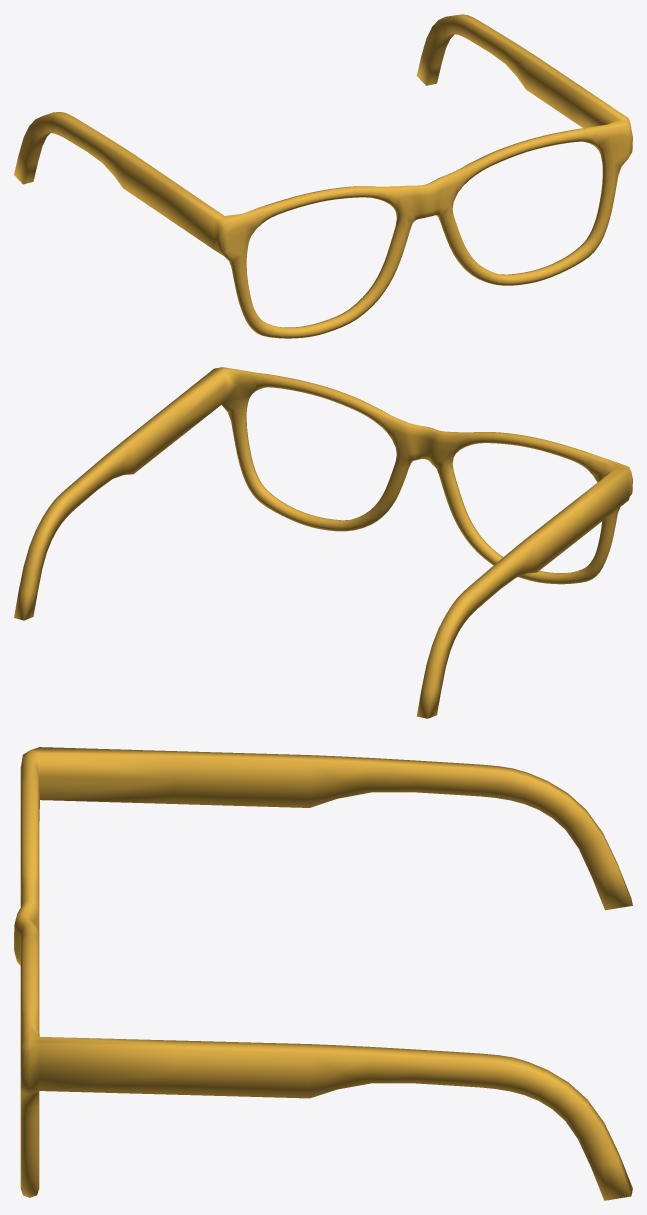
File: yellow_sunglasses.glb
3 renders of one model, top to bottom at view 1: azimuth 30°, elevation 25°; view 2: azimuth 150°, elevation 25°; view 3: azimuth 270°, elevation 25°, orthographic. The views are drawn at different scales.
Parts seen in each view (by area): view 1: Glasses; view 2: Glasses; view 3: Glasses.
Part boxes in pixels (bbox=[...]): Glasses: bbox=[14, 14, 632, 338]; Glasses: bbox=[14, 367, 632, 718]; Glasses: bbox=[14, 747, 632, 1200].
Bounding box in the file's own units: 0.1577 × 0.0517 × 0.1381.
